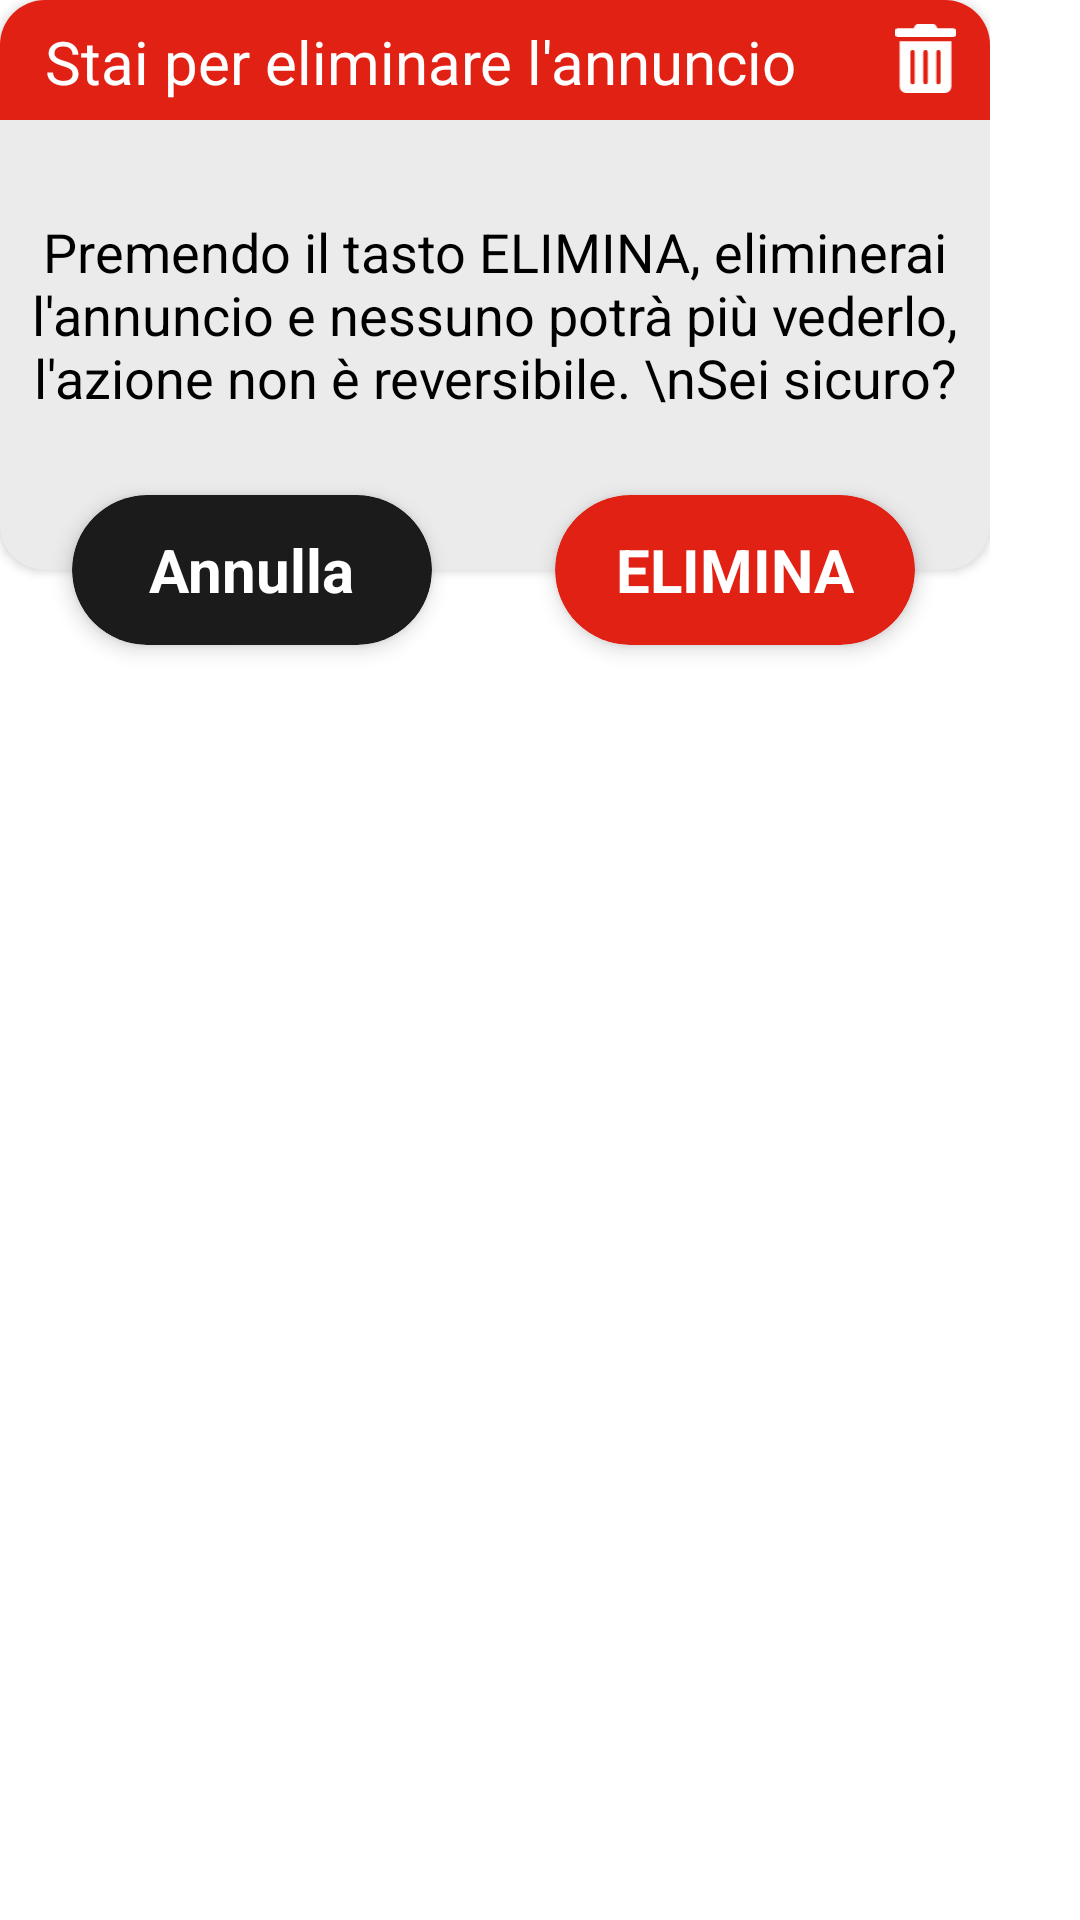

Named icons in this screenshot (1080*1920) and their centers, (x=x, y=y):
trash: (x=925, y=58)
